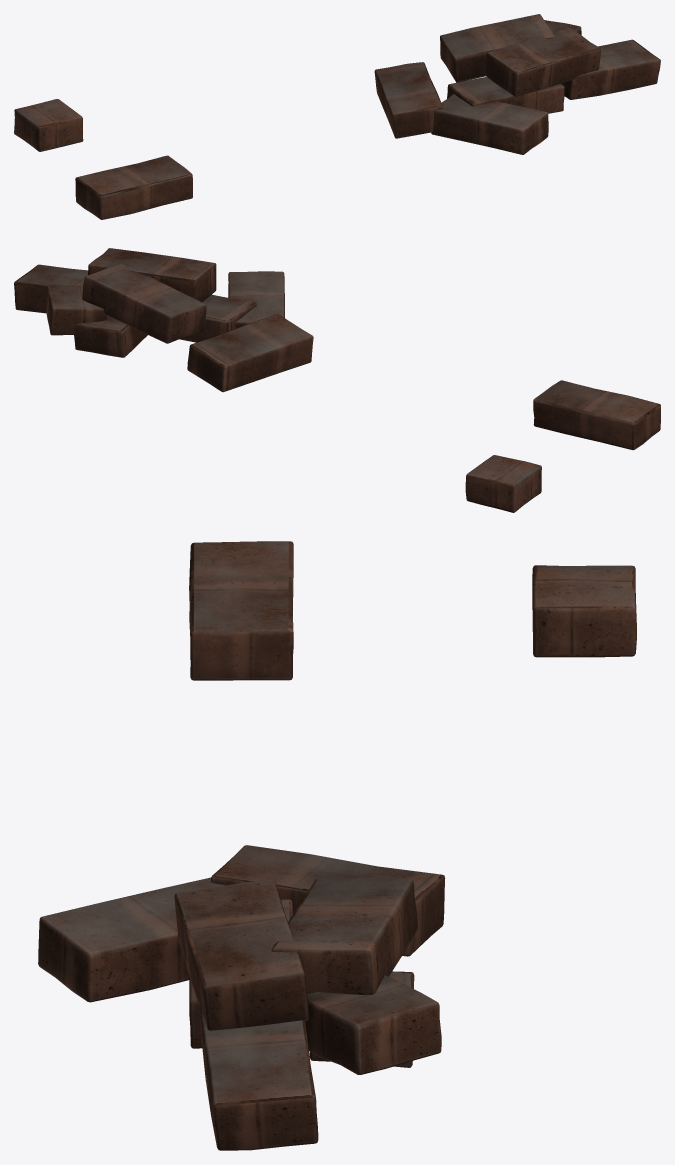
File: Bricks.fbx
The picture shows the model from 3 angles, top to bottom: view 1: azimuth 30°, elevation 25°; view 2: azimuth 150°, elevation 25°; view 3: azimuth 270°, elevation 25°; orthographic projection. The views are drawn at different scales.
Visible parts, largest first — view 1: Pile, Brick_Single, Brick_Half; view 2: Pile, Brick_Single, Brick_Half; view 3: Pile, Brick_Single, Brick_Half.
Part boxes in pixels (x1,y1,x2,y2): Pile: (374, 14, 660, 154); Brick_Single: (75, 155, 192, 219); Brick_Half: (14, 99, 83, 151); Pile: (14, 248, 313, 392); Brick_Single: (533, 380, 660, 450); Brick_Half: (465, 455, 541, 512); Pile: (38, 845, 445, 1150); Brick_Single: (189, 541, 293, 680); Brick_Half: (532, 565, 636, 657).
Bounding box in the file's own units: 1.53 × 0.16 × 0.6985.
